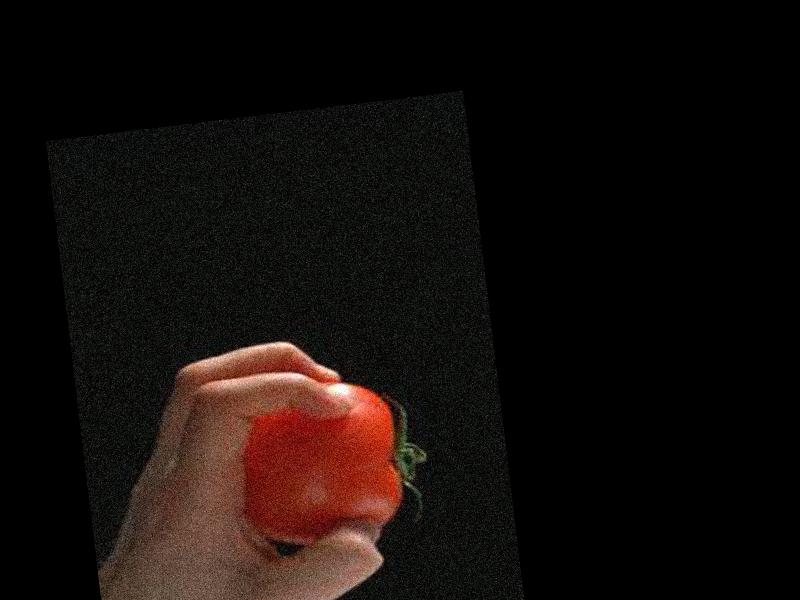Tomato: (237, 374, 432, 550)
